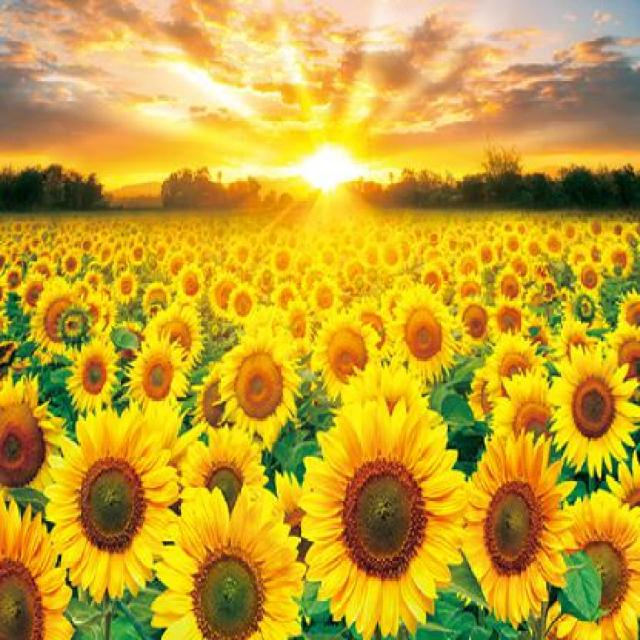sunflower: (297, 384, 475, 638), (45, 406, 172, 599), (156, 488, 316, 638), (454, 429, 568, 613), (211, 325, 320, 449), (549, 326, 633, 459)
